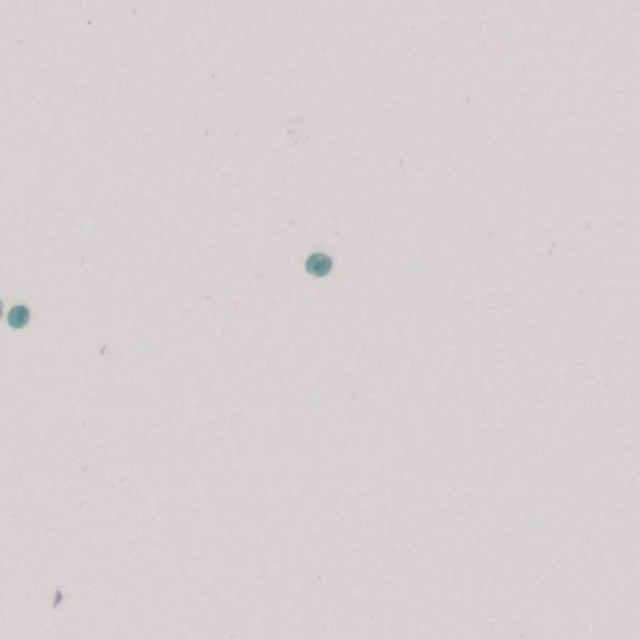non_viable: (305, 252, 332, 277), (7, 305, 29, 328)
